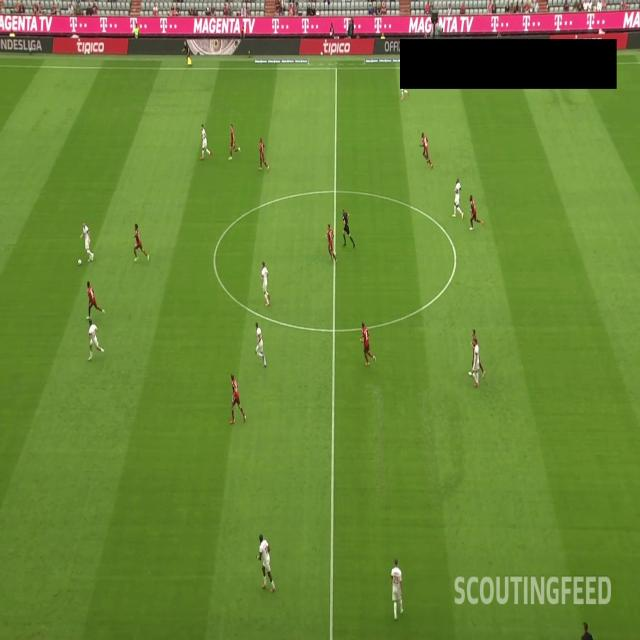ball: (77, 250, 83, 271)
player: (255, 530, 276, 593), (228, 370, 248, 427), (130, 219, 153, 268), (84, 315, 108, 361), (467, 323, 486, 380), (389, 556, 405, 622), (358, 317, 376, 370), (86, 278, 106, 321), (251, 318, 268, 368), (258, 258, 274, 311), (78, 220, 95, 264), (467, 192, 485, 233), (198, 118, 214, 162), (225, 121, 242, 162), (323, 218, 338, 264), (255, 131, 270, 173), (470, 337, 482, 389), (451, 173, 464, 220), (420, 128, 434, 168), (398, 68, 409, 102)
referee: (340, 204, 356, 250), (180, 38, 194, 70)
